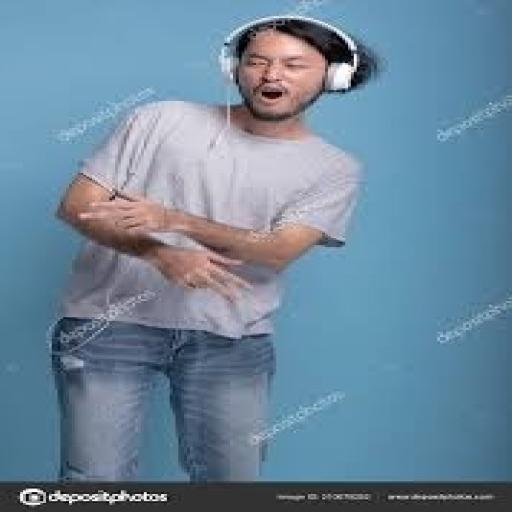listening_to_music: (46, 13, 377, 483)
